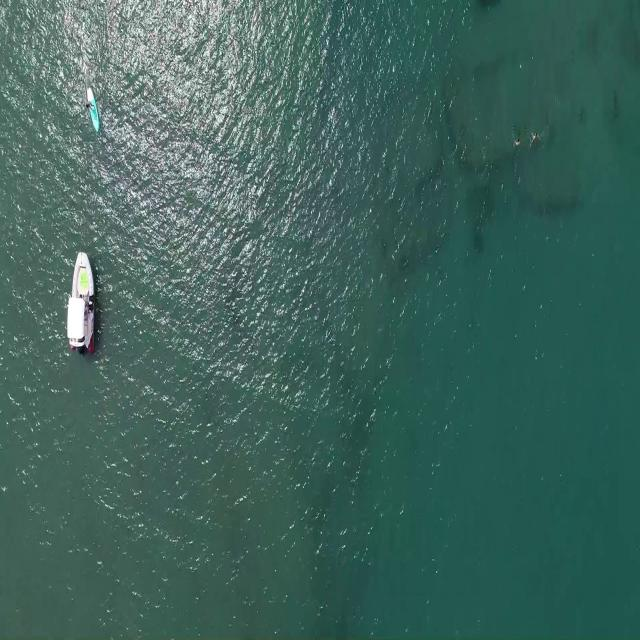boat: (66, 239, 98, 360)
person: (529, 130, 544, 143), (86, 98, 97, 112), (514, 136, 522, 146)
surfboard: (85, 86, 100, 134)
